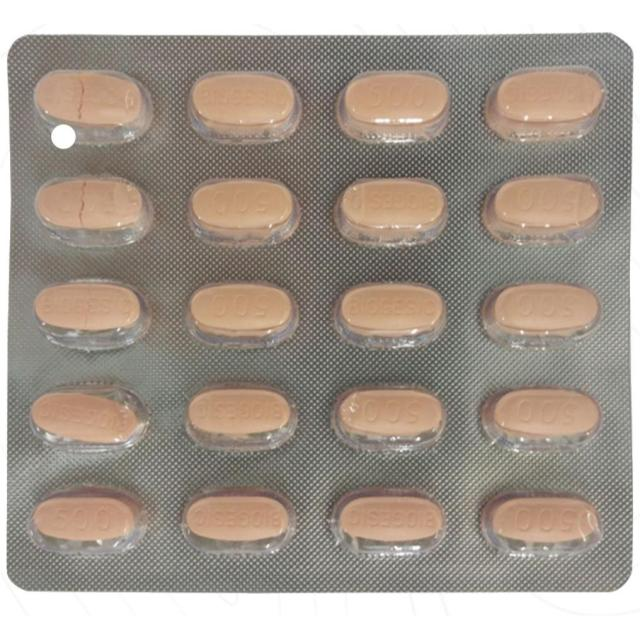blister: (3, 25, 636, 594)
